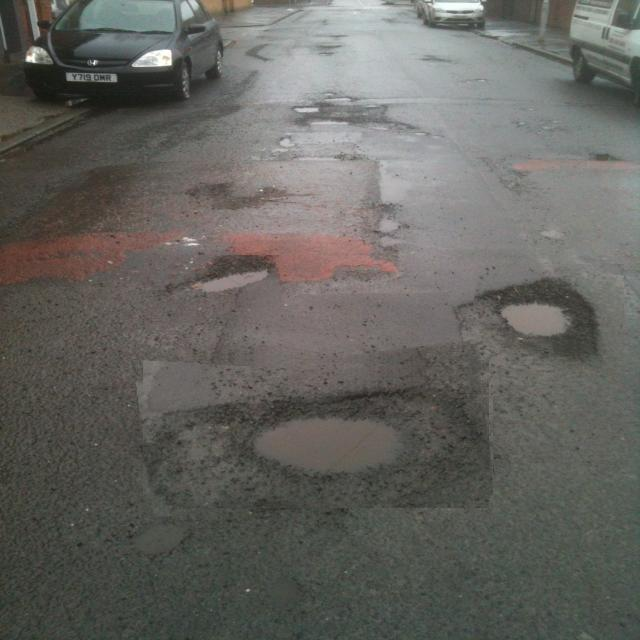Pothole: (140, 350, 493, 508), (472, 264, 624, 353), (154, 255, 281, 323)
